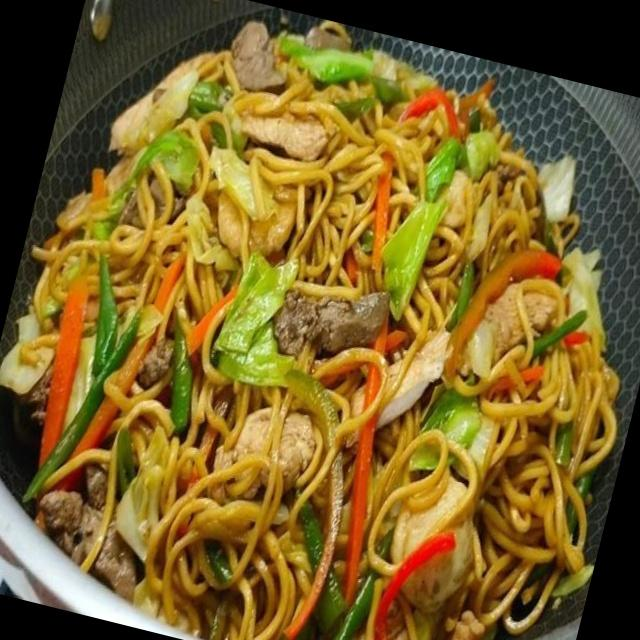pancit bihon: (27, 23, 604, 639)
